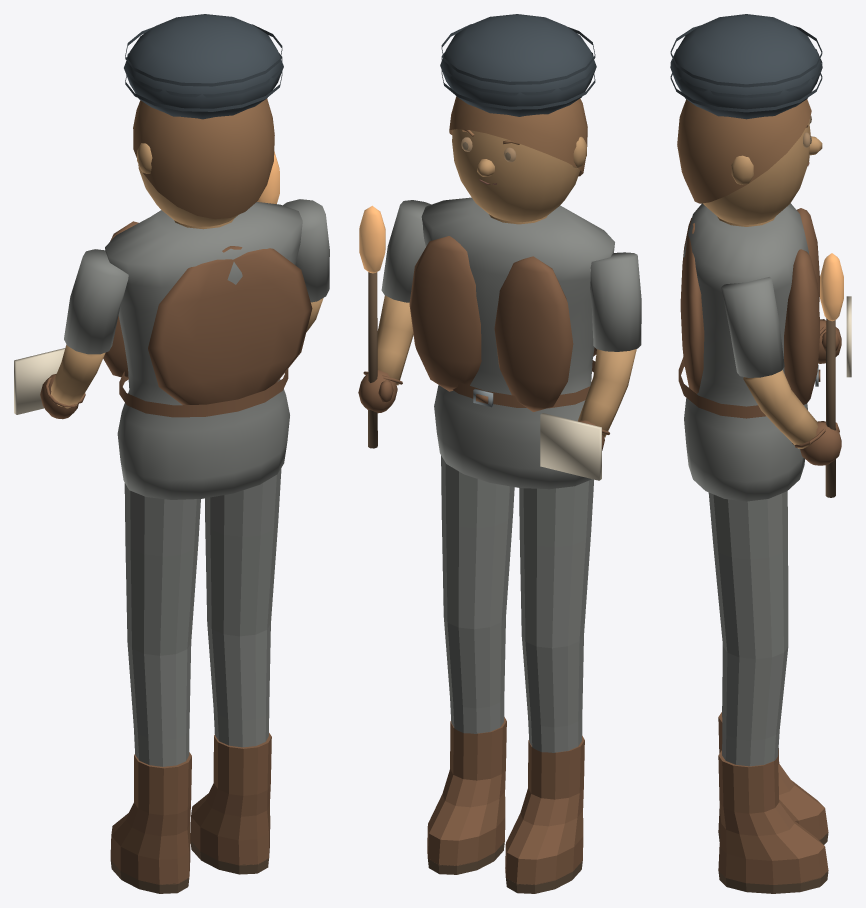
The model's file is SM_NPC_CENIZA.glb.
3 views of the same model, side by side, from view 1: azimuth 30°, elevation 25°; view 2: azimuth 150°, elevation 25°; view 3: azimuth 270°, elevation 25° (orthographic). The views are drawn at different scales.
Visible parts, largest first — view 1: SM_NPC_CENIZA_BODY, SM_NPC_CENIZA_LEG_L, SM_NPC_CENIZA_HAIR, SM_NPC_CENIZA_LEG_R, SM_NPC_CENIZA_ARM_L, SM_NPC_CENIZA_ARM_R, SM_NPC_CENIZA_HEAD; view 2: SM_NPC_CENIZA_BODY, SM_NPC_CENIZA_LEG_L, SM_NPC_CENIZA_LEG_R, SM_NPC_CENIZA_HAIR, SM_NPC_CENIZA_ARM_L, SM_NPC_CENIZA_ARM_R, SM_NPC_CENIZA_HEAD; view 3: SM_NPC_CENIZA_BODY, SM_NPC_CENIZA_LEG_R, SM_NPC_CENIZA_HAIR, SM_NPC_CENIZA_ARM_R, SM_NPC_CENIZA_HEAD, SM_NPC_CENIZA_LEG_L, SM_NPC_CENIZA_ARM_L.
Boxes of the visible parts, x1,y1,x2,y2 form: SM_NPC_CENIZA_BODY: (103, 202, 312, 499); SM_NPC_CENIZA_LEG_L: (110, 483, 200, 893); SM_NPC_CENIZA_HAIR: (124, 14, 283, 219); SM_NPC_CENIZA_LEG_R: (190, 468, 281, 874); SM_NPC_CENIZA_ARM_L: (14, 249, 128, 419); SM_NPC_CENIZA_ARM_R: (257, 151, 329, 331); SM_NPC_CENIZA_HEAD: (137, 126, 273, 226); SM_NPC_CENIZA_BODY: (409, 197, 614, 489); SM_NPC_CENIZA_LEG_L: (505, 479, 593, 893); SM_NPC_CENIZA_LEG_R: (427, 455, 514, 874); SM_NPC_CENIZA_HAIR: (440, 14, 596, 176); SM_NPC_CENIZA_ARM_L: (540, 252, 641, 480); SM_NPC_CENIZA_ARM_R: (358, 200, 431, 448); SM_NPC_CENIZA_HEAD: (452, 129, 586, 222); SM_NPC_CENIZA_BODY: (678, 203, 820, 501); SM_NPC_CENIZA_LEG_R: (708, 491, 828, 893); SM_NPC_CENIZA_HAIR: (670, 14, 822, 203); SM_NPC_CENIZA_ARM_R: (721, 253, 843, 497); SM_NPC_CENIZA_HEAD: (703, 122, 822, 224); SM_NPC_CENIZA_LEG_L: (718, 491, 828, 844); SM_NPC_CENIZA_ARM_L: (818, 296, 851, 377).
Size of the model in its own units: 0.6157 by 1.88 by 0.3699.
